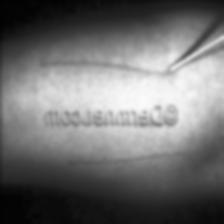Toxin: (36, 56, 162, 78), (66, 148, 184, 168)
